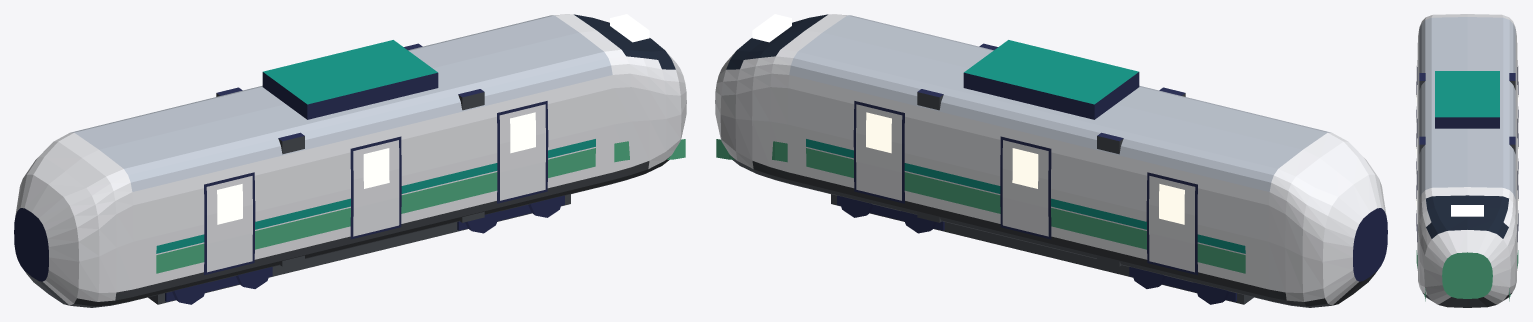
The model's file is lrt-kaohsiung.glb.
3 views of the same model, side by side, from view 1: azimuth 30°, elevation 25°; view 2: azimuth 150°, elevation 25°; view 3: azimuth 270°, elevation 25° (orthographic). The views are drawn at different scales.
Visible parts, largest first — view 1: lrt-kaohsiung_root; view 2: lrt-kaohsiung_root; view 3: lrt-kaohsiung_root.
Boxes of the visible parts, box(x1,y1,x2,y2) form: lrt-kaohsiung_root: box(14, 14, 686, 307); lrt-kaohsiung_root: box(715, 14, 1387, 307); lrt-kaohsiung_root: box(1416, 14, 1518, 307).
Size of the model in its own units: 15.6 by 3.84 by 3.
Materials: 2 (2 with a texture image).
